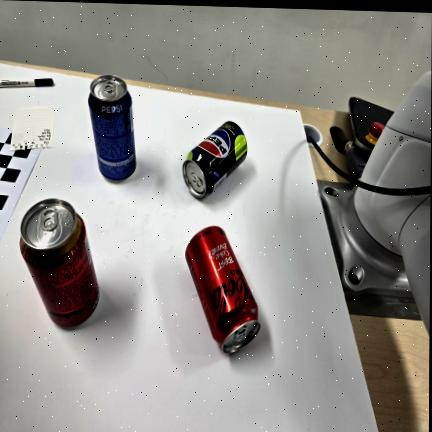can_coke_decaf: (20, 199, 99, 327)
can_coke_zero: (186, 226, 260, 353)
can_pepsi: (88, 75, 136, 181)
can_pepsi_zero: (182, 121, 247, 198)
